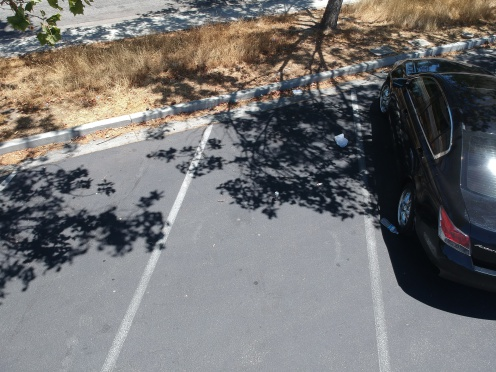bottle: (375, 215, 404, 238)
plastic bag: (332, 131, 351, 149)
